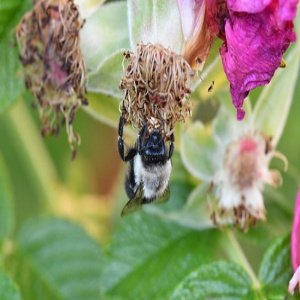bee: (116, 120, 178, 218)
